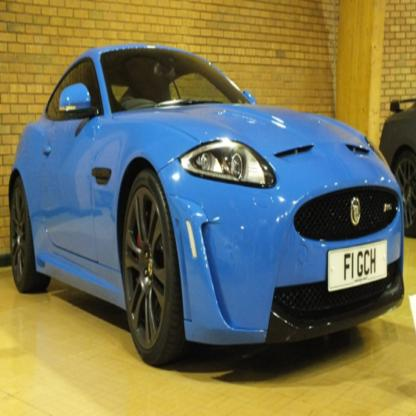Car: (10, 44, 406, 366), (380, 100, 416, 240)
